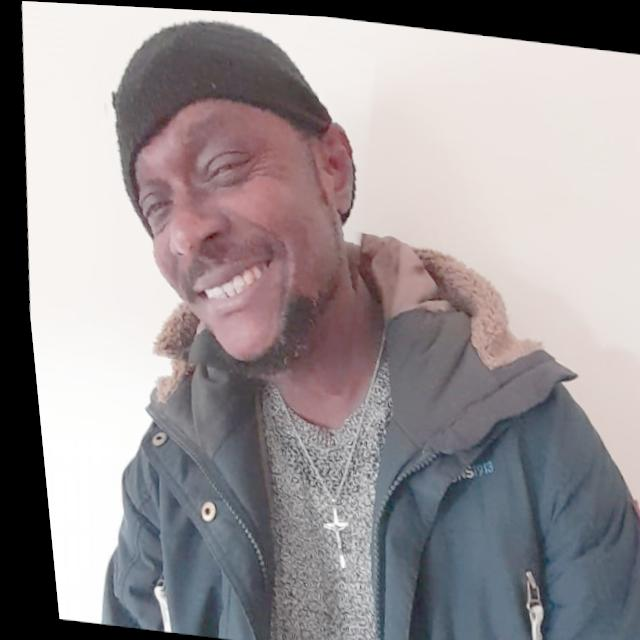happy: (57, 2, 394, 392)
